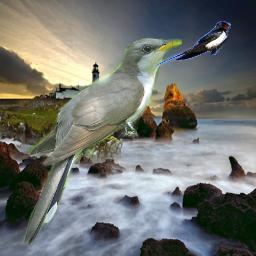Cuckoo: (23, 38, 182, 244)
Swallow: (154, 21, 231, 67)
